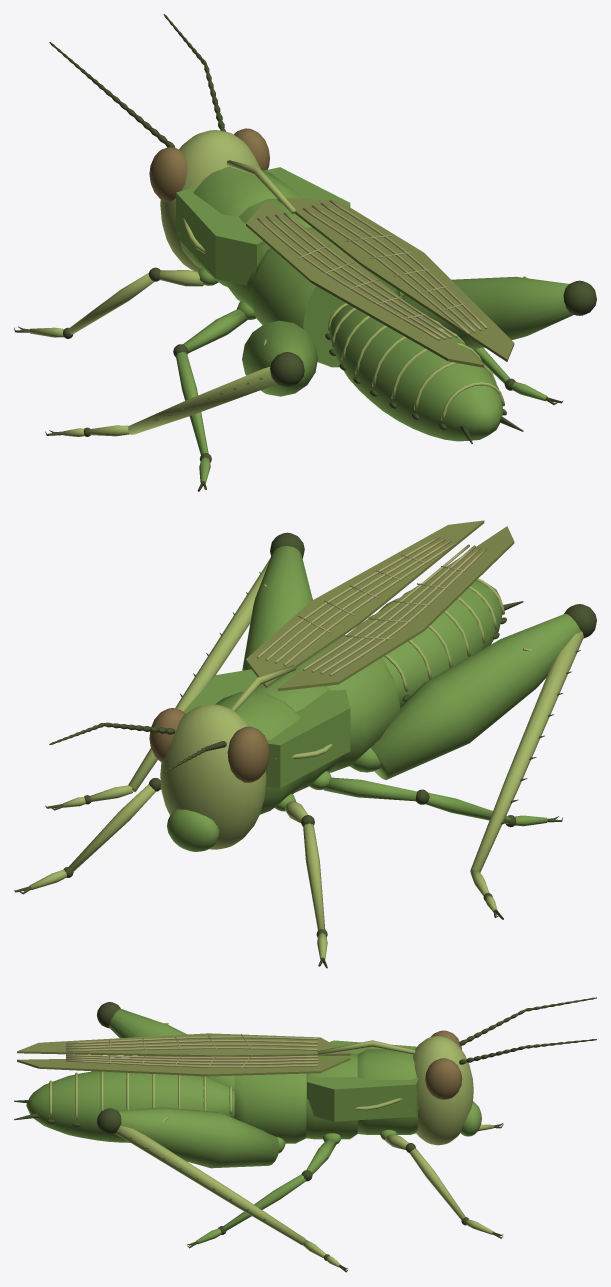
File: Grasshopper.fbx
3 views of the same model, one above another, from view 1: azimuth 30°, elevation 25°; view 2: azimuth 150°, elevation 25°; view 3: azimuth 270°, elevation 25° (orthographic). The views are drawn at different scales.
Visible parts, largest first — view 1: Material group Grasshopper_LeafGreen, Material group Grasshopper_FoldedTegmina, Material group Grasshopper_PaleCuticle, Material group Grasshopper_WingStriae, Material group Grasshopper_DarkJoints, Material group Grasshopper_CompoundEye; view 2: Material group Grasshopper_LeafGreen, Material group Grasshopper_PaleCuticle, Material group Grasshopper_FoldedTegmina, Material group Grasshopper_WingStriae, Material group Grasshopper_DarkJoints, Material group Grasshopper_CompoundEye; view 3: Material group Grasshopper_LeafGreen, Material group Grasshopper_PaleCuticle, Material group Grasshopper_FoldedTegmina, Material group Grasshopper_WingStriae, Material group Grasshopper_DarkJoints, Material group Grasshopper_CompoundEye.
Part boxes in pixels (<box>): Material group Grasshopper_LeafGreen: <box>176,166,573,483</box>; Material group Grasshopper_FoldedTegmina: <box>246,198,514,367</box>; Material group Grasshopper_PaleCuticle: <box>29,130,504,436</box>; Material group Grasshopper_WingStriae: <box>256,200,527,345</box>; Material group Grasshopper_DarkJoints: <box>14,14,596,491</box>; Material group Grasshopper_CompoundEye: <box>149,128,269,202</box>; Material group Grasshopper_LeafGreen: <box>167,546,581,851</box>; Material group Grasshopper_PaleCuticle: <box>29,557,584,959</box>; Material group Grasshopper_FoldedTegmina: <box>246,520,514,691</box>; Material group Grasshopper_WingStriae: <box>256,536,531,676</box>; Material group Grasshopper_DarkJoints: <box>14,532,596,968</box>; Material group Grasshopper_CompoundEye: <box>149,708,269,782</box>; Material group Grasshopper_LeafGreen: <box>26,1008,481,1244</box>; Material group Grasshopper_PaleCuticle: <box>49,1036,493,1267</box>; Material group Grasshopper_FoldedTegmina: <box>17,1033,350,1076</box>; Material group Grasshopper_WingStriae: <box>66,1022,317,1121</box>; Material group Grasshopper_DarkJoints: <box>14,997,596,1272</box>; Material group Grasshopper_CompoundEye: <box>425,1030,462,1099</box>.
Size of the model in its own units: 0.6757 by 0.3239 by 1.
